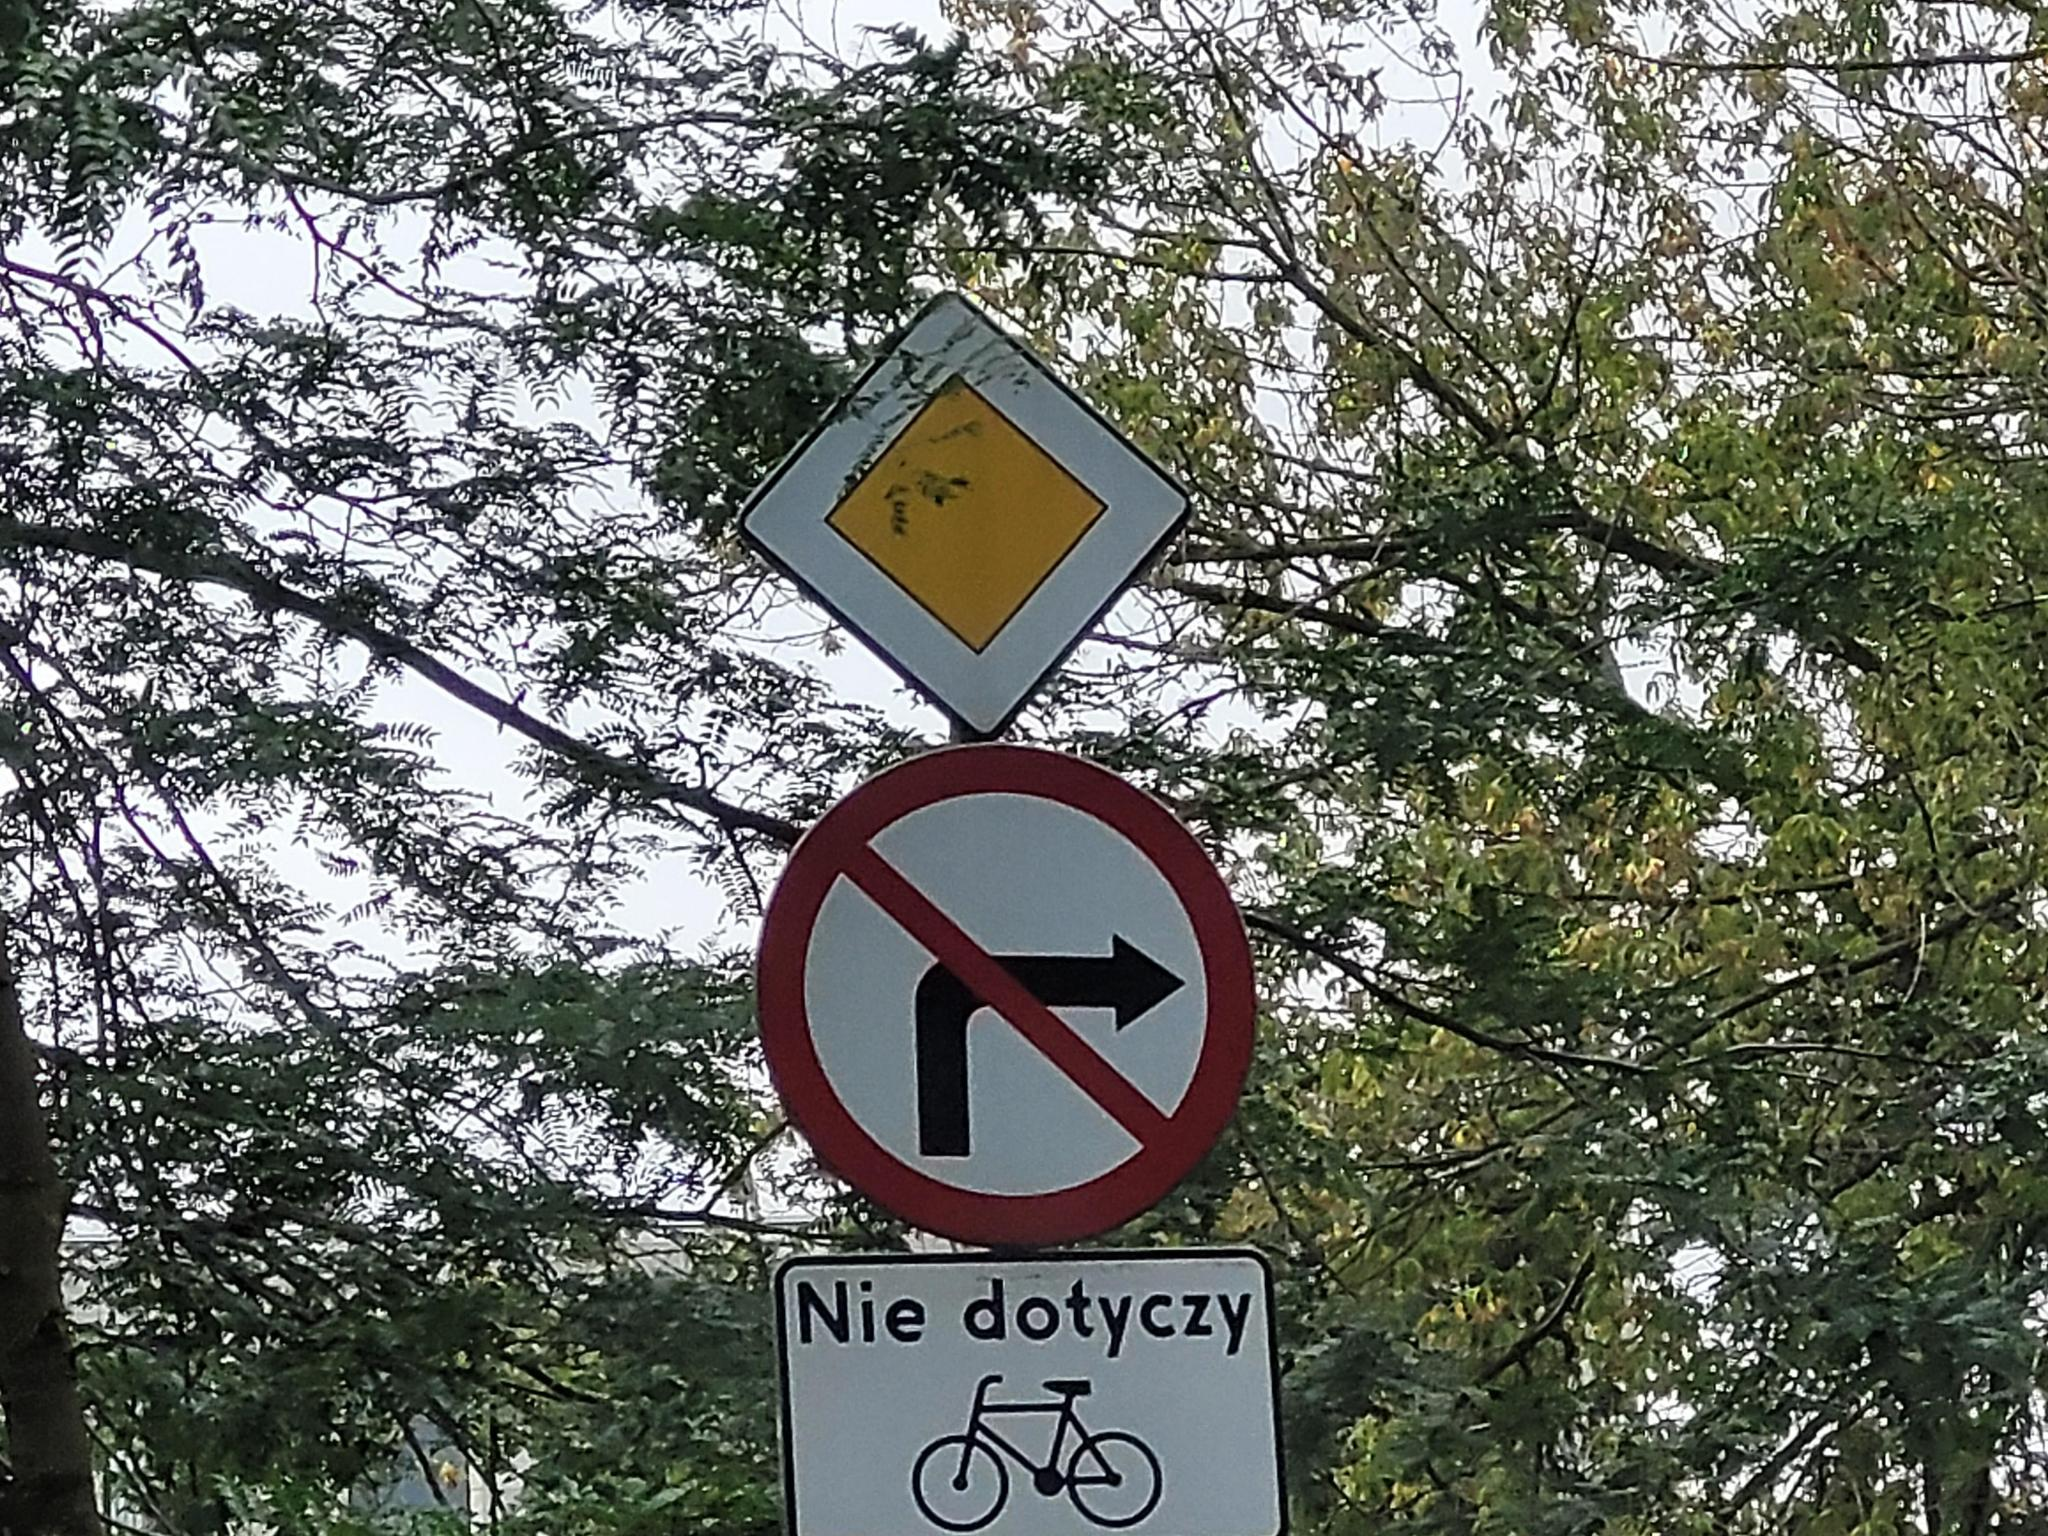information: (734, 289, 1190, 744)
other: (782, 1265, 1272, 1536)
prohibitory: (755, 739, 1258, 1250)
